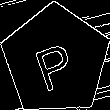P_N: (30, 30, 81, 90)
